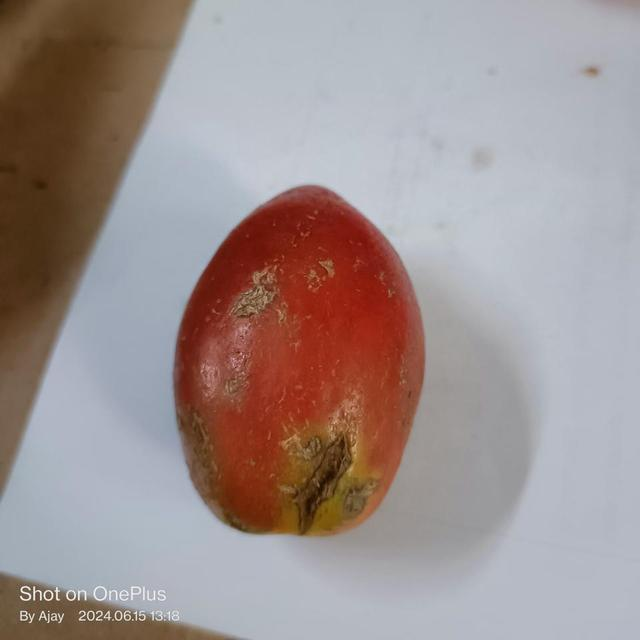Bacterial Spot Fruit: (32, 45, 213, 322)
